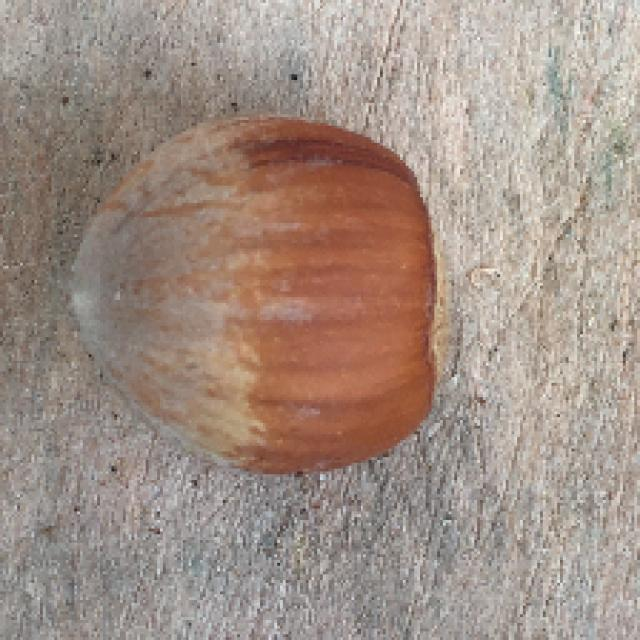qualityHazelnut: (65, 111, 470, 482)
